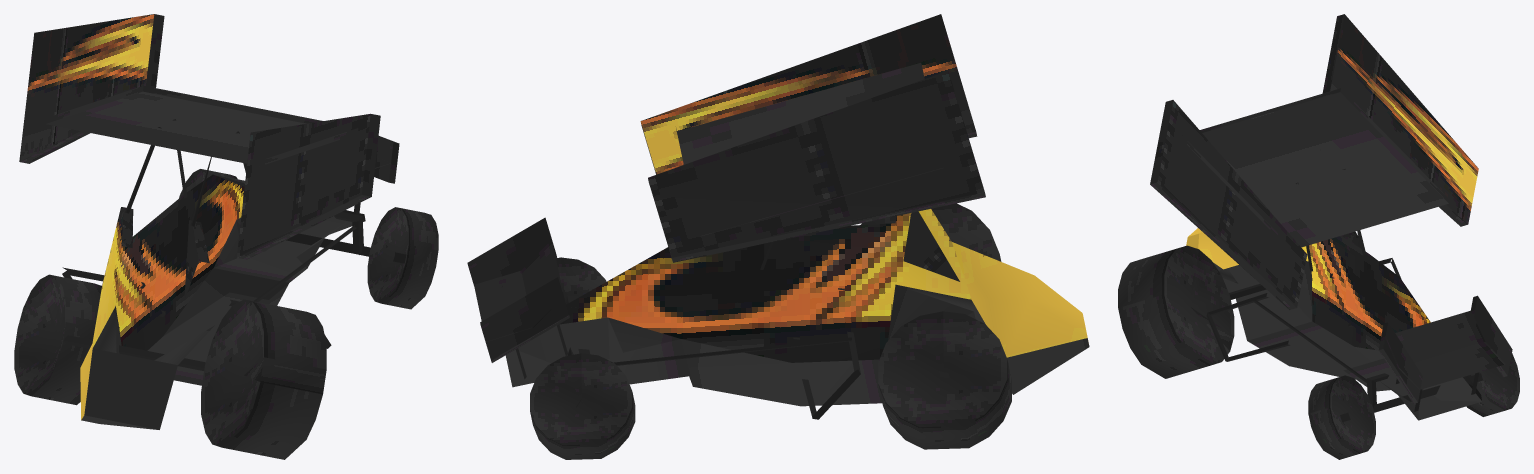
File: ps2_save-icons_sprintcars2showdownateldora.glb
The picture shows the model from 3 angles, left to right: view 1: azimuth 30°, elevation 25°; view 2: azimuth 150°, elevation 25°; view 3: azimuth 270°, elevation 25°; orthographic projection. The views are drawn at different scales.
Visible parts, largest first — view 1: sc2008.ico; view 2: sc2008.ico; view 3: sc2008.ico.
Part boxes in pixels (<box>): sc2008.ico: <box>14,14,438,459</box>; sc2008.ico: <box>467,14,1089,459</box>; sc2008.ico: <box>1118,14,1519,459</box>.
Size of the model in its own units: 3.31 by 2.56 by 3.11.
Materials: 1 (1 with a texture image).
